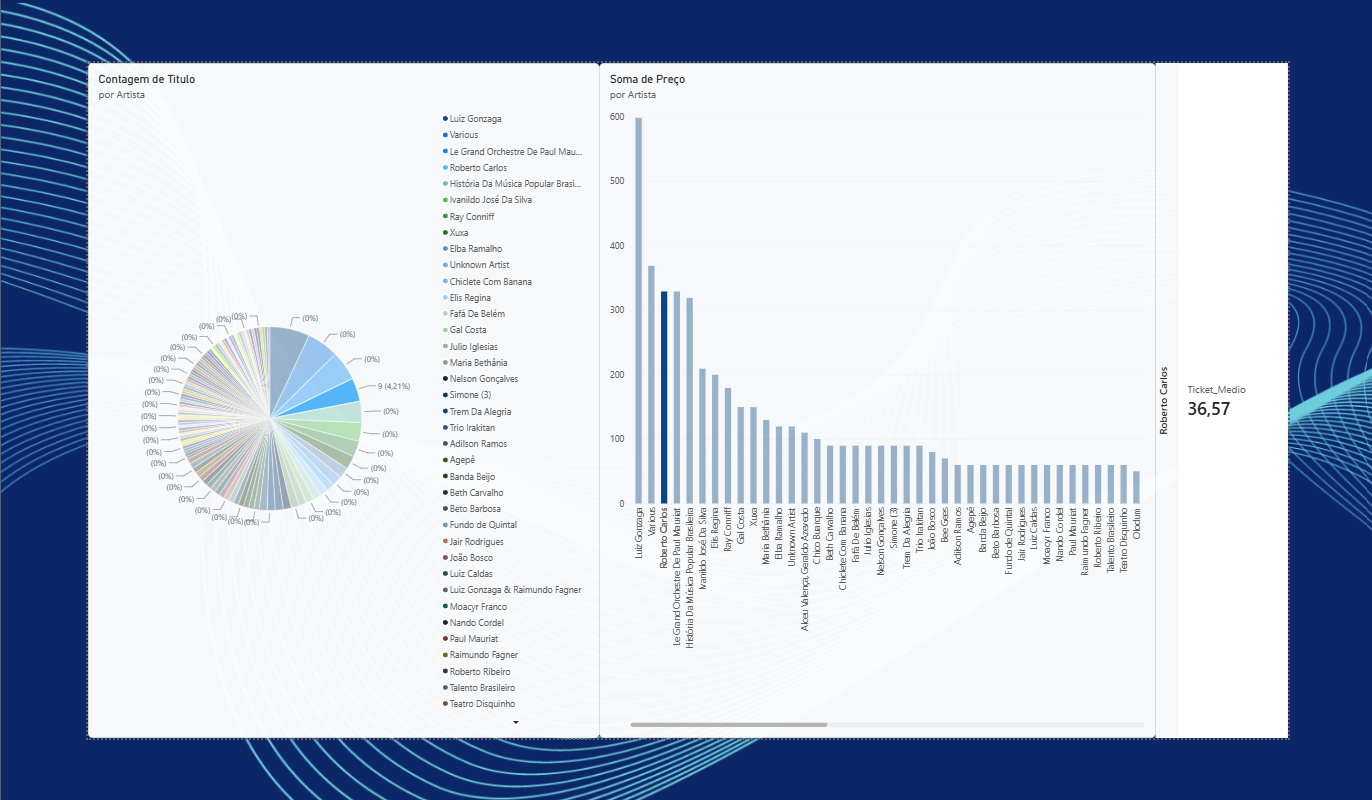

This screenshot's page, from the dashboard's own definition file:
{"tool":"powerbi","page":{"name":"Página 1","canvas":[1920,1080],"ordinal":0},"visuals":[{"type":"pieChart","fields":{"Category":["estoque_limpo.Artista"],"Y":["CountNonNull(estoque_limpo.Titulo)"]},"box":[0,0,818.6,1080],"z":0},{"type":"cardVisual","fields":{"Data":["estoque_limpo.Ticket_Medio"],"Rows":["estoque_limpo.Artista"]},"box":[1708,0,212,1080],"z":1000},{"type":"columnChart","fields":{"Category":["estoque_limpo.Artista"],"Y":["Sum(estoque_limpo.Preço)"]},"box":[818,0,890,1080],"z":2000}]}

Visuals, with their boxes on the page's 1920x1080 design canvas (x1, y1, x2, y2). These are canvas units, not pixel positions in the 1372x800 screenshot, which may show the page scaled, cropped or inside an application window:
pieChart - estoque_limpo.Artista x CountNonNull(estoque_limpo.Titulo): {"left": 0, "top": 0, "right": 819, "bottom": 1080}
cardVisual - estoque_limpo.Ticket_Medio x estoque_limpo.Artista: {"left": 1708, "top": 0, "right": 1920, "bottom": 1080}
columnChart - estoque_limpo.Artista x Sum(estoque_limpo.Preço): {"left": 818, "top": 0, "right": 1708, "bottom": 1080}
